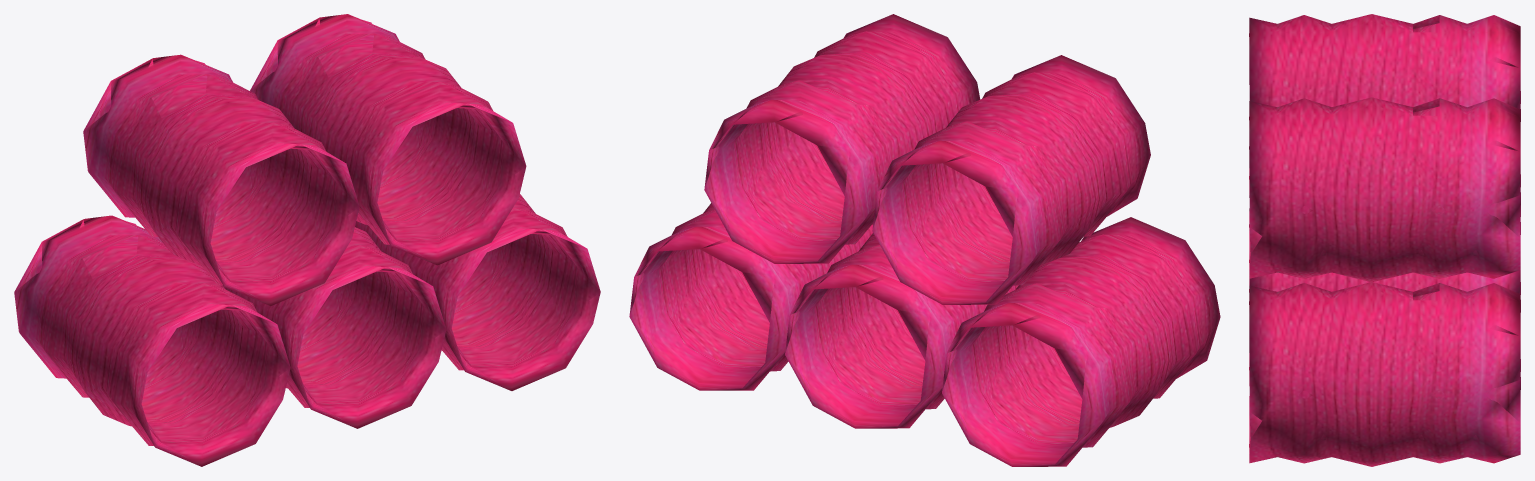
Rendered from WorldItem-HairCurlers.fbx.
3 renders of one model, left to right at view 1: azimuth 30°, elevation 25°; view 2: azimuth 150°, elevation 25°; view 3: azimuth 270°, elevation 25°, orthographic. The views are drawn at different scales.
Visible parts, largest first — view 1: Cylinder.003; view 2: Cylinder.003; view 3: Cylinder.003.
Boxes of the visible parts, left/top/right/bottom form: Cylinder.003: left=14, top=14, right=600, bottom=466; Cylinder.003: left=629, top=14, right=1220, bottom=466; Cylinder.003: left=1249, top=14, right=1520, bottom=466.
Bounding box in the file's own units: 0.1034 × 0.0652 × 0.051.
